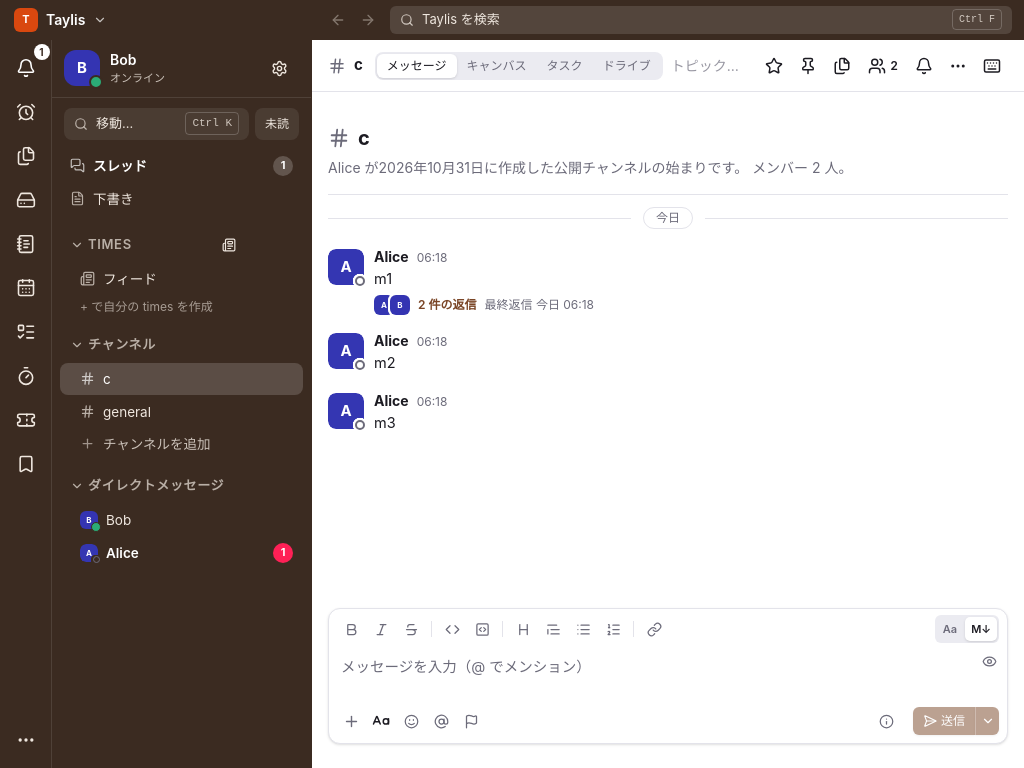
⌘K (wide layout) filters and orders by the jump-match rule
The image size is (1024, 768).
Press k
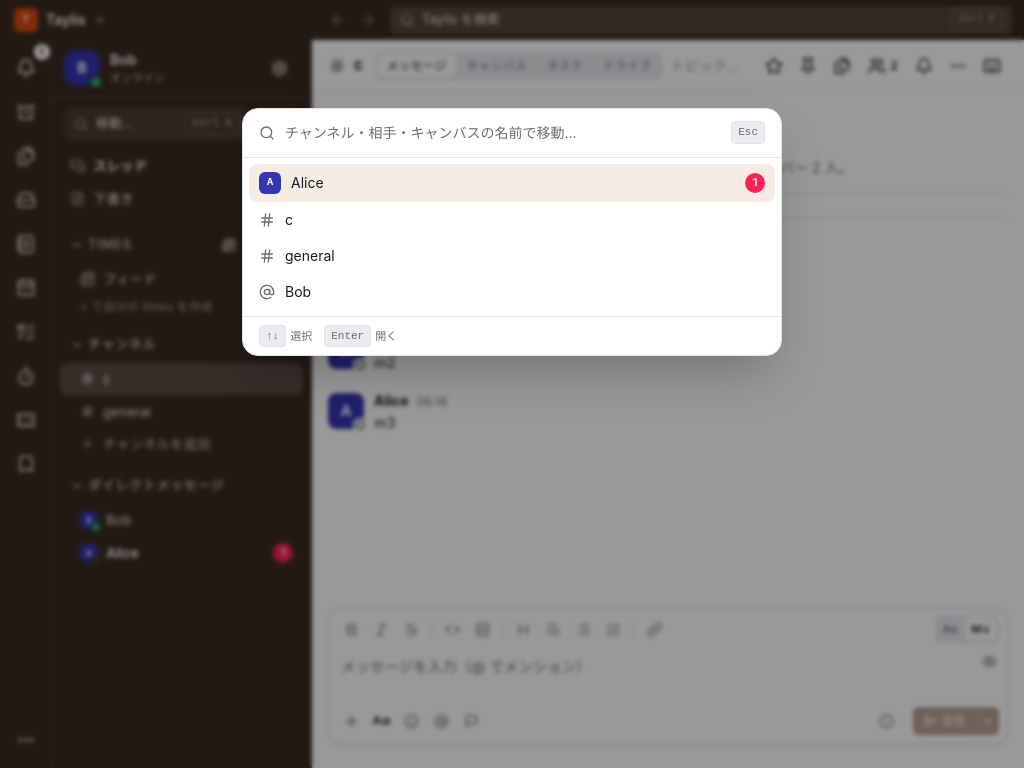
Type "al" into the dropdown with placeholder "チャンネル・相手・キャンバスの名前で移動…" at (503, 132), box [285,108,721,156]
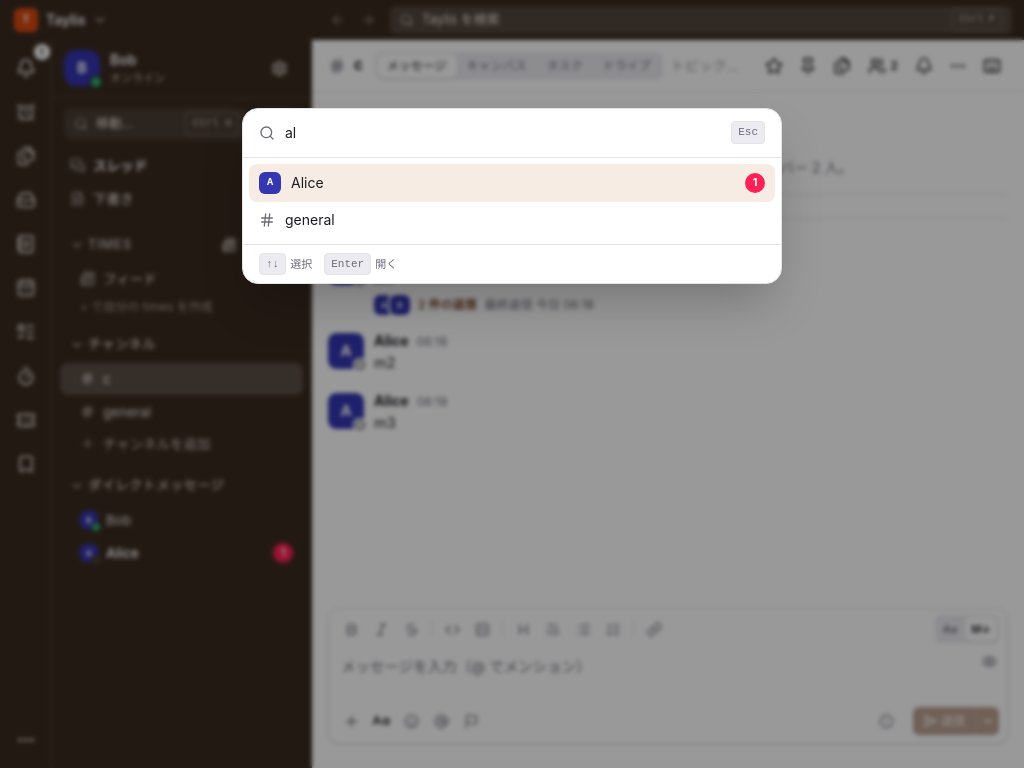
Replace the text in the dropdown with placeholder "チャンネル・相手・キャンバスの名前で移動…" with "zzz" at (503, 132), box [285,108,721,156]
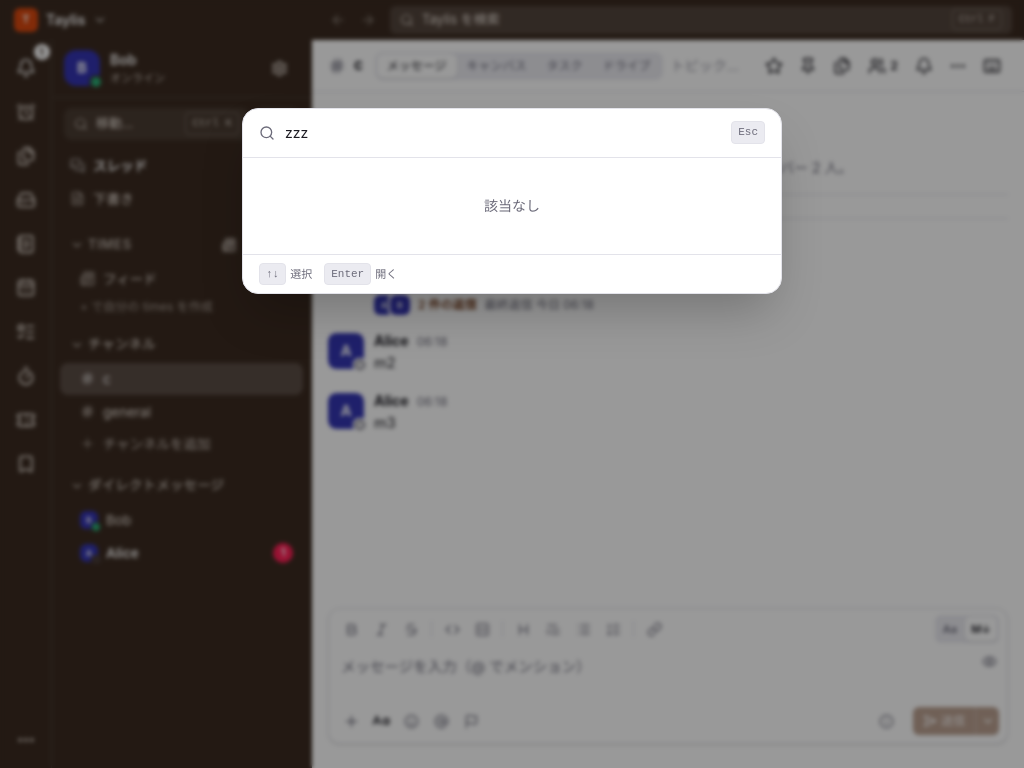
Expected: the text "該当なし" is shown, [484,196,540,214]
